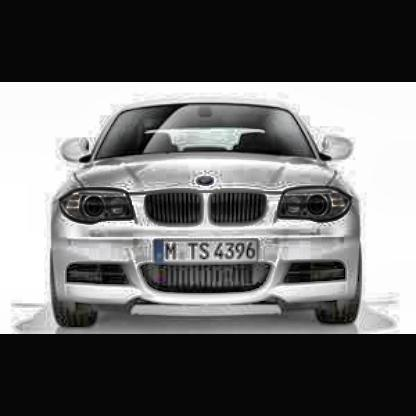BMW 1 Series Coupe 2012: (23, 83, 376, 333)
